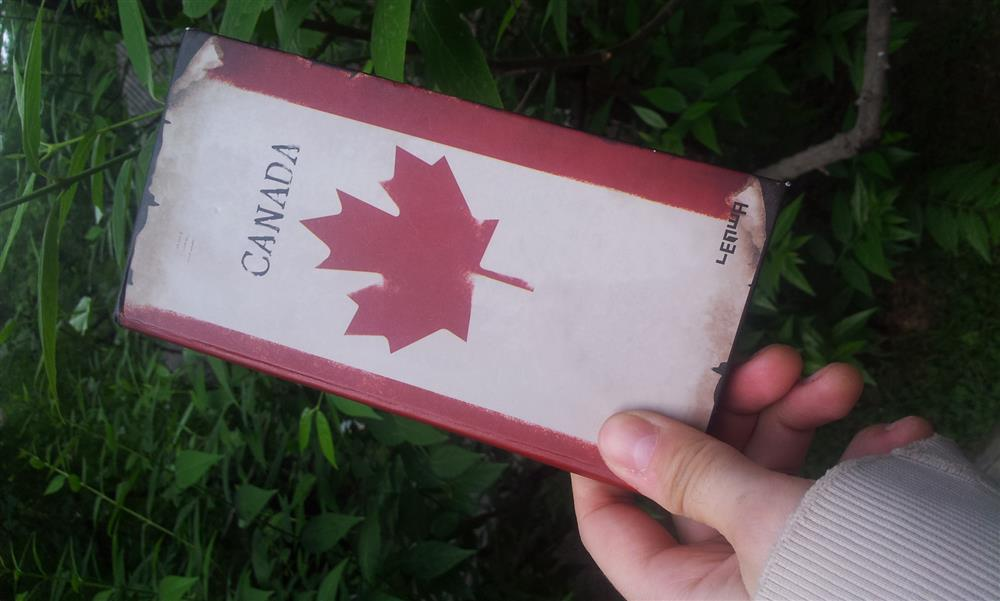canada_book: (100, 28, 797, 496)
